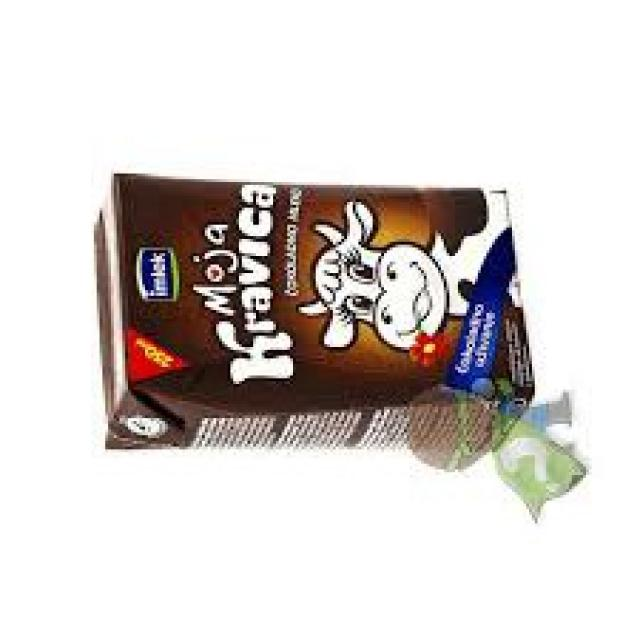non_white_jug: (90, 172, 539, 460)
